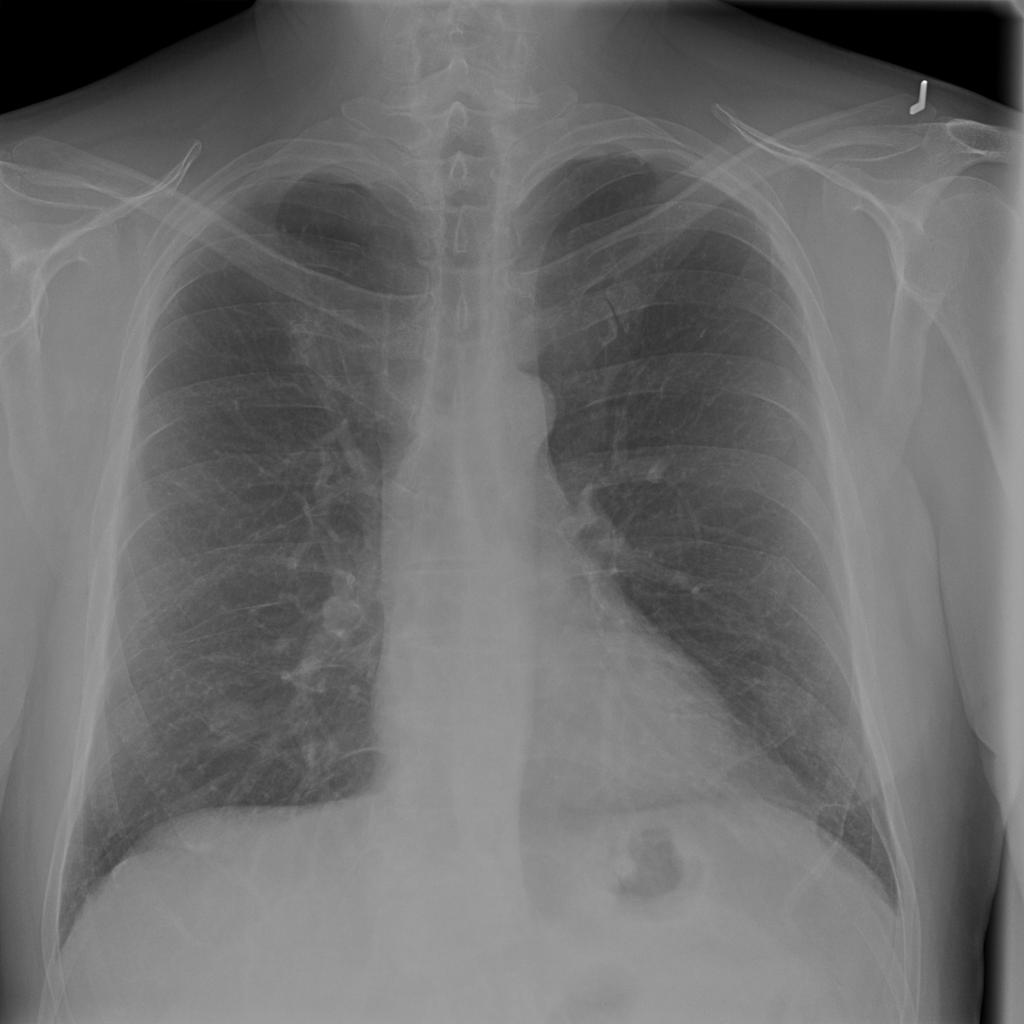nodule: (195, 685, 276, 755)
